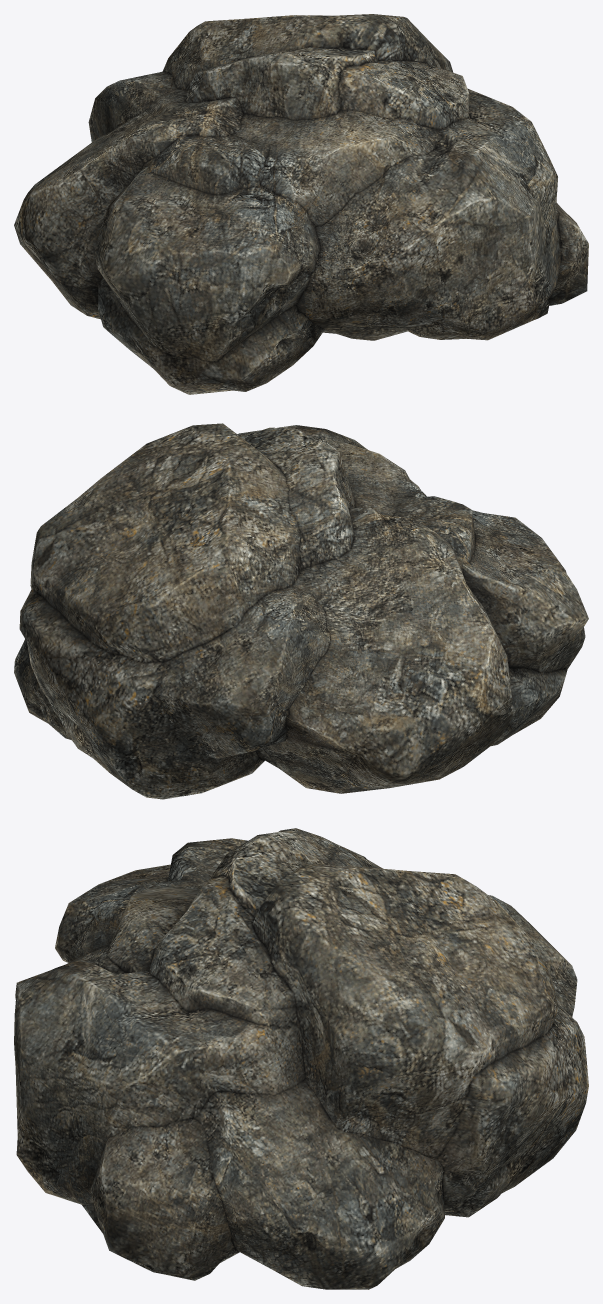
Rendered from stone_heap.fbx.
3 views of the same model, one above another, from view 1: azimuth 30°, elevation 25°; view 2: azimuth 150°, elevation 25°; view 3: azimuth 270°, elevation 25° (orthographic). The views are drawn at different scales.
Parts seen in each view (by area): view 1: RockGroup1_LOD0(Clone); view 2: RockGroup1_LOD0(Clone); view 3: RockGroup1_LOD0(Clone).
Boxes of the visible parts, x1,y1,x2,y2 form: RockGroup1_LOD0(Clone): (14,14,588,394); RockGroup1_LOD0(Clone): (14,423,588,799); RockGroup1_LOD0(Clone): (14,828,588,1289).
Bounding box in the file's own units: 607 × 351 × 552.
